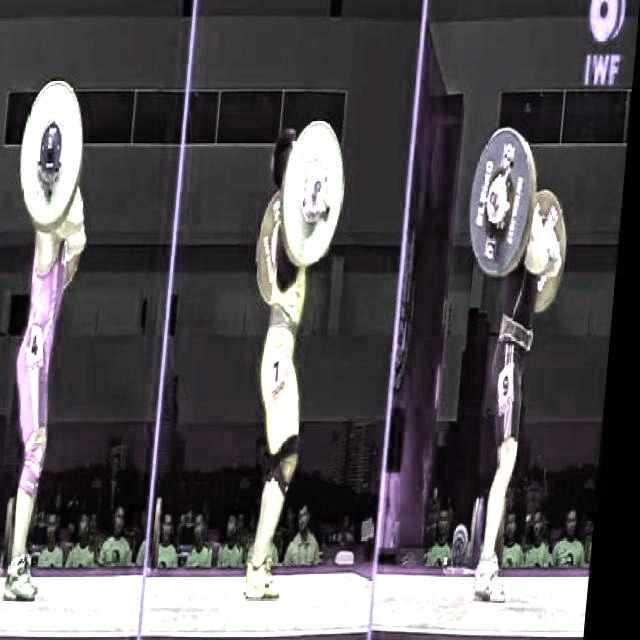barbell: (12, 75, 98, 237), (460, 120, 545, 283), (276, 113, 357, 271)
